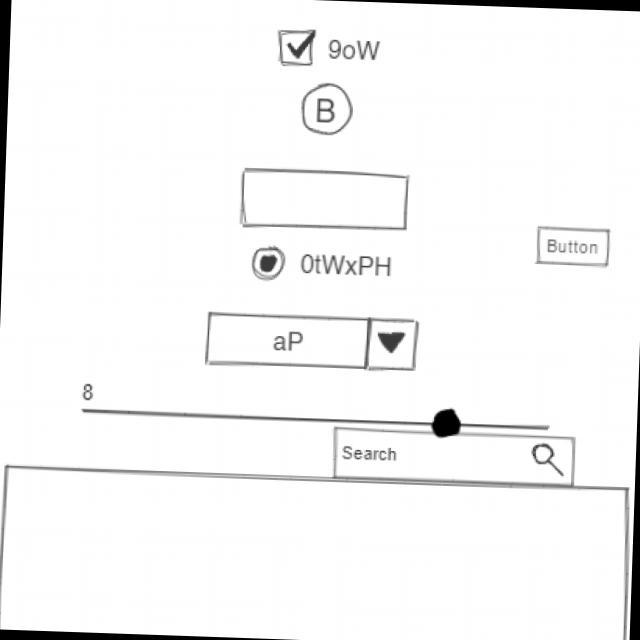button: (533, 223, 614, 269)
checkbox: (276, 26, 384, 74)
container: (1, 461, 634, 640)
icon-button: (299, 80, 355, 139)
input: (236, 163, 415, 235)
radio: (250, 244, 397, 287)
search: (332, 426, 579, 491)
select: (203, 308, 424, 376)
slider: (96, 392, 554, 444)
